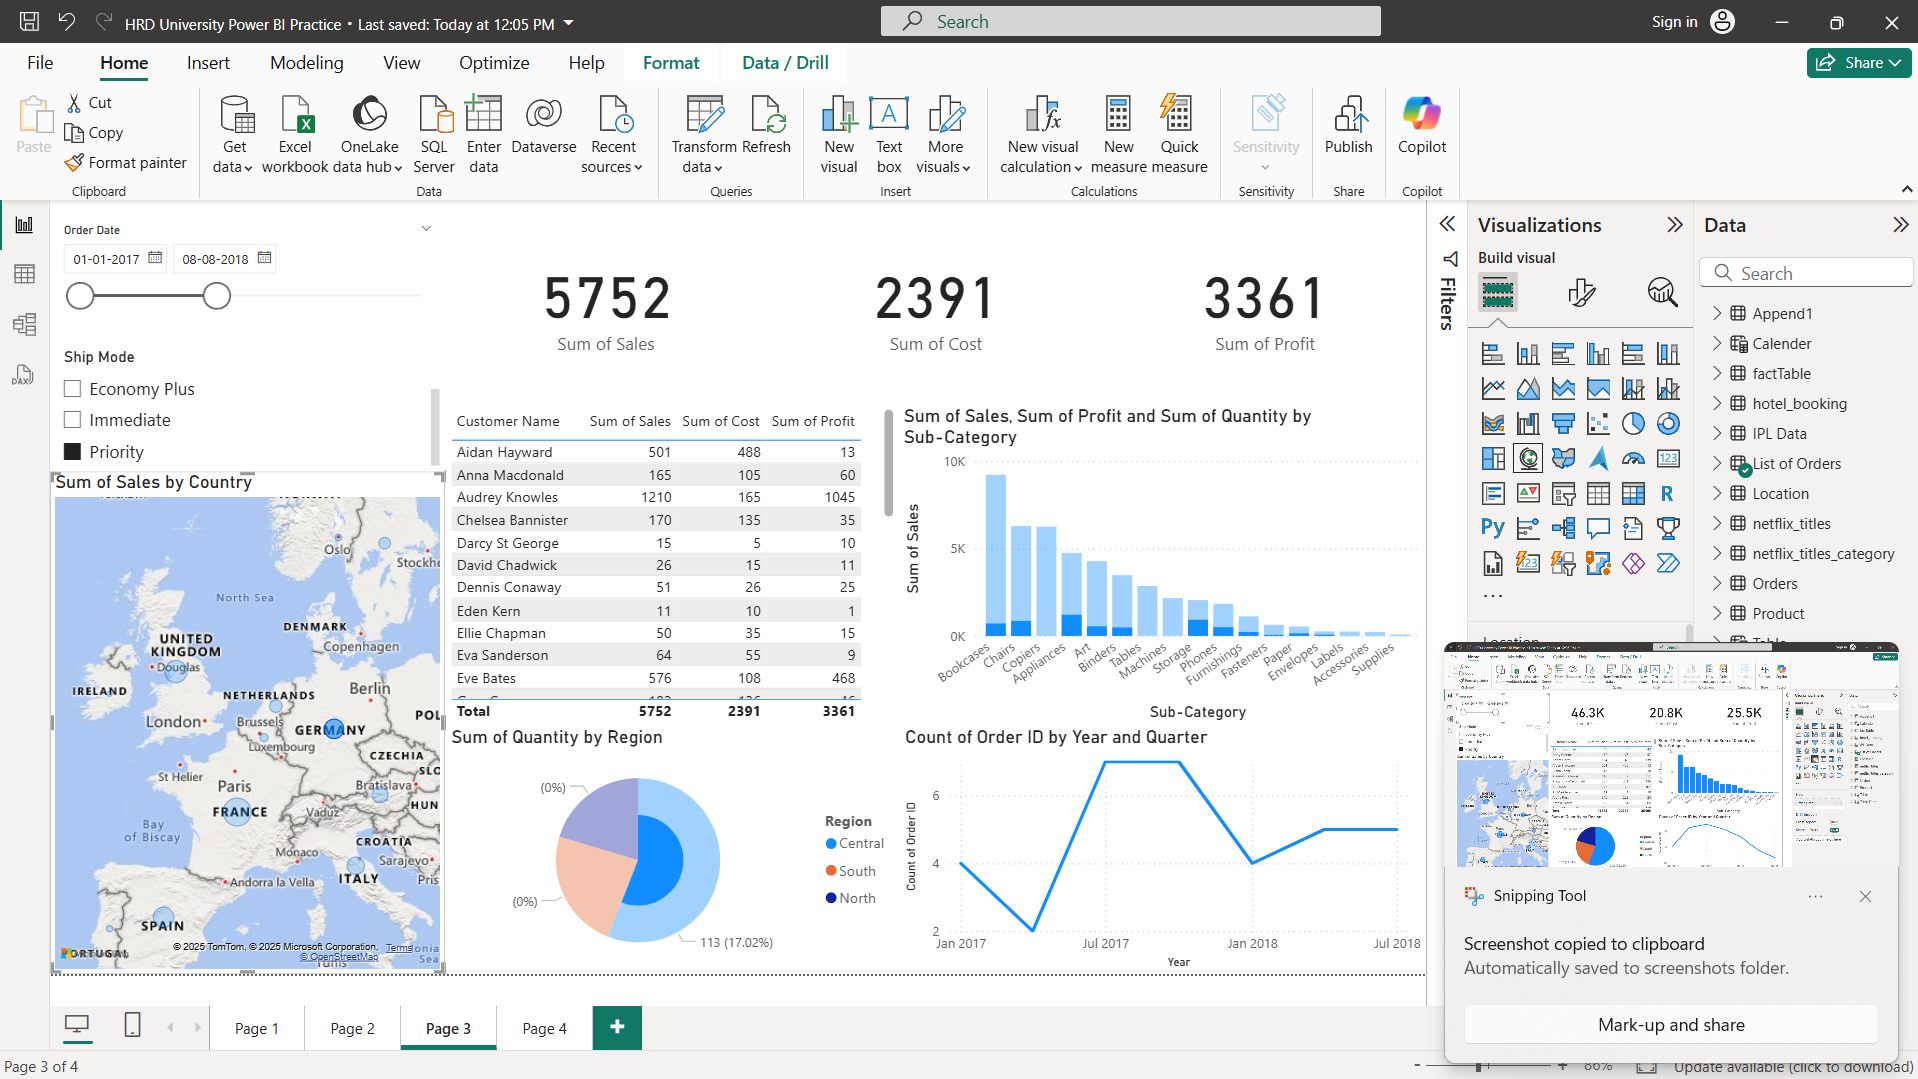

The dashboard page shown, as its layout file describes it:
{"tool":"powerbi","page":{"name":"Page 1","canvas":[1280,720],"ordinal":0},"visuals":[{"type":"card","fields":{"Values":["Sum(sneakers_streetwear_sales_data.Sum of Sales Quantity)"]},"box":[673.3,1.2,299.8,163.4],"z":0},{"type":"card","fields":{"Values":["Sum(sneakers_streetwear_sales_data.Sum of Cost Unit Price)"]},"box":[373.5,2.5,299.8,162.2],"z":1000},{"type":"card","fields":{"Values":["Sum(sneakers_streetwear_sales_data.Sum of Profit Amount)"]},"box":[973.1,1.2,307.2,163.4],"z":2000},{"type":"clusteredColumnChart","fields":{"Category":["sneakers_streetwear_sales_data.Category","sneakers_streetwear_sales_data.Date.Variation.Date Hierarchy.Year","sneakers_streetwear_sales_data.Date.Variation.Date Hierarchy.Quarter"],"Y":["Sum(sneakers_streetwear_sales_data.Sales Qun)"],"Series":["sneakers_streetwear_sales_data.Gender"]},"box":[800,165.1,480.2,311.6],"z":3000},{"type":"lineChart","fields":{"Category":["sneakers_streetwear_sales_data.Date.Variation.Date Hierarchy.Quarter","sneakers_streetwear_sales_data.Date.Variation.Date Hierarchy.Month","sneakers_streetwear_sales_data.Date.Variation.Date Hierarchy.Day"],"Y2":["CountNonNull(sneakers_streetwear_sales_data.Product Type)"],"Y":["Sum(sneakers_streetwear_sales_data.Quantity)"]},"box":[799.8,476.7,480.4,243.3],"z":4000},{"type":"donutChart","fields":{"Y":["Sum(sneakers_streetwear_sales_data.Quantity)"],"Category":["sneakers_streetwear_sales_data.Country"]},"box":[337.9,430,462,290],"z":5000},{"type":"tableEx","fields":{"Values":["sneakers_streetwear_sales_data.Product Name","Sum(sneakers_streetwear_sales_data.Sales Quantity)","Sum(sneakers_streetwear_sales_data.Cost Unit Price)","Sum(sneakers_streetwear_sales_data.Profit Amount)"]},"box":[337.9,164.6,462,265.4],"z":6000},{"type":"map","fields":{"Category":["sneakers_streetwear_sales_data.Country"],"Size":["Sum(sneakers_streetwear_sales_data.Profit)"]},"box":[0,320.7,337.9,399.3],"z":7000},{"type":"slicer","fields":{"Values":["sneakers_streetwear_sales_data.Payment Mode"]},"box":[0,164.6,337.9,153.6],"z":8000},{"type":"slicer","fields":{"Values":["sneakers_streetwear_sales_data.Date"]},"box":[0,2.5,373.5,161],"z":9000}]}

Visuals, with their boxes on the page's 1280x720 design canvas (x1, y1, x2, y2). These are canvas units, not pixel positions in the 1918x1079 screenshot, which may show the page scaled, cropped or inside an application window:
card - Sum(sneakers_streetwear_sales_data.Sum of Sales Quantity): (left=673, top=1, right=973, bottom=165)
card - Sum(sneakers_streetwear_sales_data.Sum of Cost Unit Price): (left=374, top=2, right=673, bottom=165)
card - Sum(sneakers_streetwear_sales_data.Sum of Profit Amount): (left=973, top=1, right=1280, bottom=165)
clusteredColumnChart - sneakers_streetwear_sales_data.Category x sneakers_streetwear_sales_data.Date.Variation.Date Hierarchy.Year: (left=800, top=165, right=1280, bottom=477)
lineChart - sneakers_streetwear_sales_data.Date.Variation.Date Hierarchy.Quarter x sneakers_streetwear_sales_data.Date.Variation.Date Hierarchy.Month: (left=800, top=477, right=1280, bottom=720)
donutChart - Sum(sneakers_streetwear_sales_data.Quantity) x sneakers_streetwear_sales_data.Country: (left=338, top=430, right=800, bottom=720)
tableEx - sneakers_streetwear_sales_data.Product Name x Sum(sneakers_streetwear_sales_data.Sales Quantity): (left=338, top=165, right=800, bottom=430)
map - sneakers_streetwear_sales_data.Country x Sum(sneakers_streetwear_sales_data.Profit): (left=0, top=321, right=338, bottom=720)
slicer - sneakers_streetwear_sales_data.Payment Mode: (left=0, top=165, right=338, bottom=318)
slicer - sneakers_streetwear_sales_data.Date: (left=0, top=2, right=374, bottom=164)
